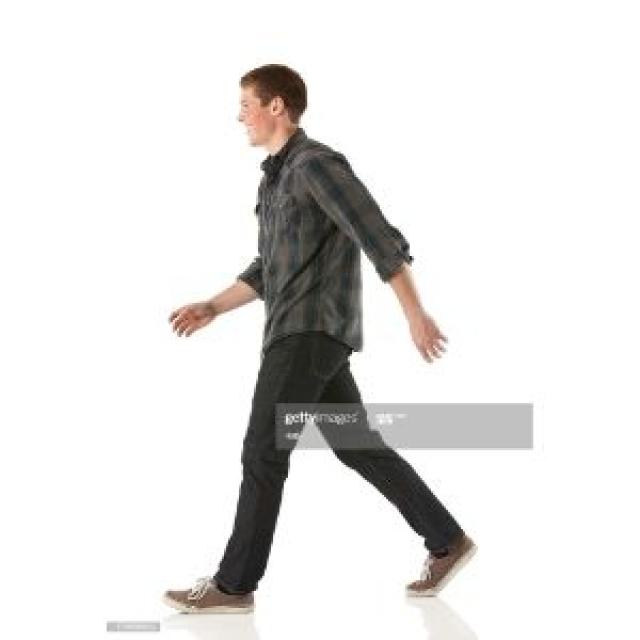nonfall: (147, 55, 487, 620)
